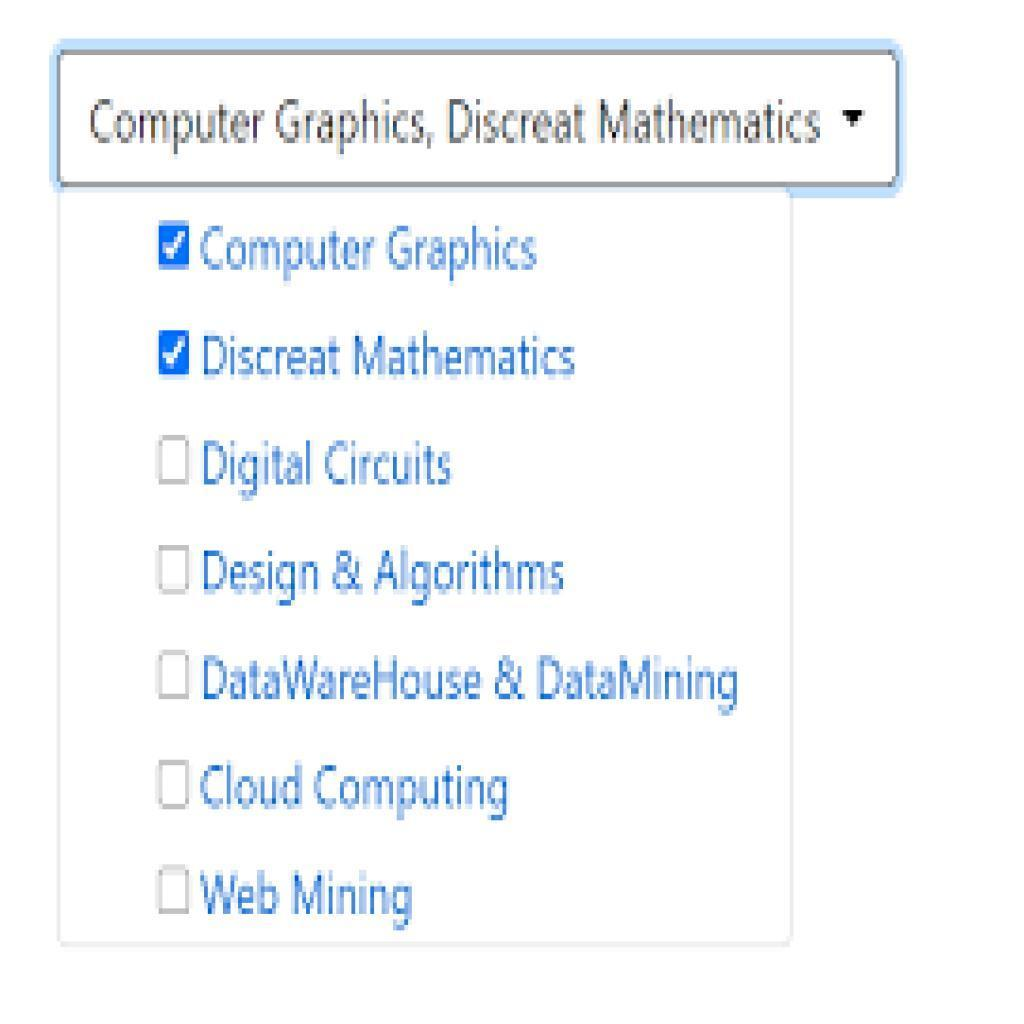checkbox: (157, 220, 192, 268), (158, 435, 191, 483), (160, 760, 189, 810), (161, 651, 190, 700), (161, 330, 191, 376), (159, 546, 189, 590), (161, 865, 188, 910)
dropdown: (60, 54, 897, 185)
label: (198, 649, 744, 714), (195, 545, 572, 600), (204, 328, 582, 381), (200, 757, 517, 816), (199, 224, 542, 276), (203, 434, 459, 492), (200, 867, 423, 924)
